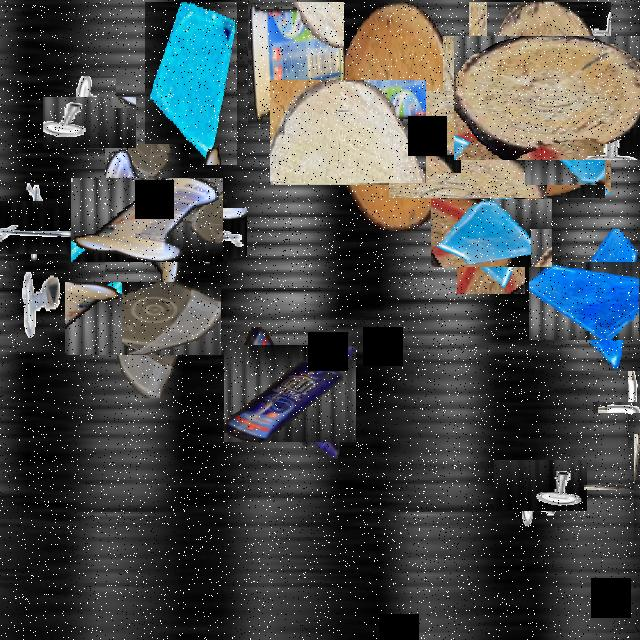glass: (145, 2, 237, 165), (545, 245, 640, 355), (444, 186, 538, 280)
metal: (469, 2, 529, 108), (2, 190, 78, 265), (505, 449, 577, 522), (54, 86, 126, 159), (167, 198, 237, 268), (20, 263, 62, 338), (610, 383, 640, 430)
plastic: (88, 161, 206, 280), (232, 336, 348, 450), (86, 260, 200, 376), (248, 2, 344, 126)
wood: (335, 2, 459, 229), (416, 63, 578, 225), (470, 19, 628, 177), (270, 80, 426, 183), (609, 458, 640, 515)
